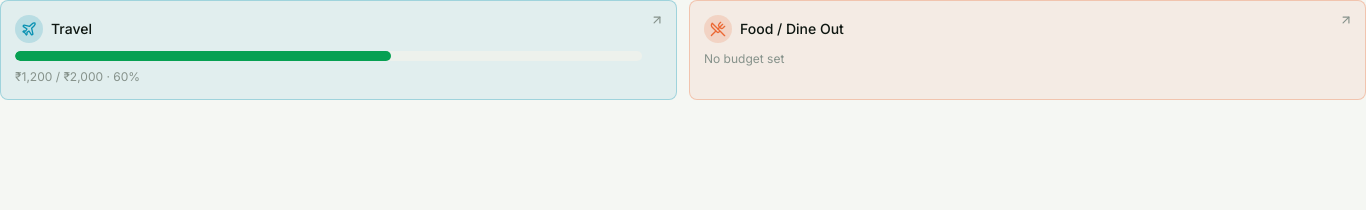
BudgetManager › starts an unbudgeted, no-history category's slider at zero (no suggestion available)
This screenshot has width=1366, height=210.
Click the button "Food / Dine Out No budget set".
click(792, 28)  # box 704,15 -> 1351,67
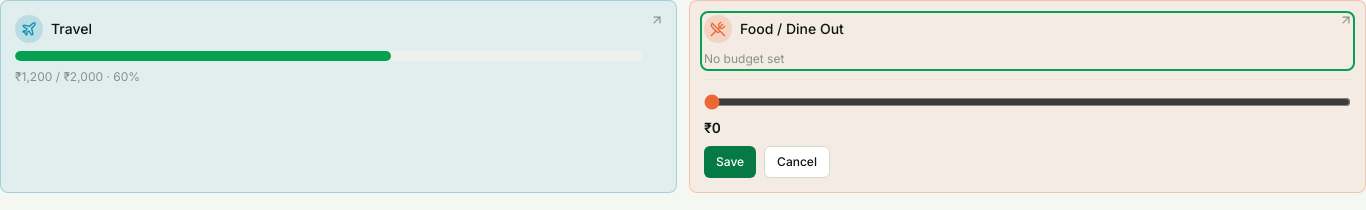
Check: the slider named "monthly budget for food / dine out" holds "0", box 704,94 -> 1351,110
